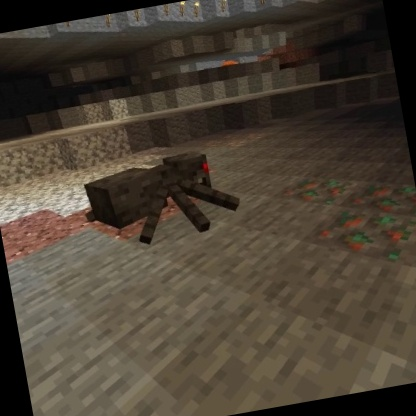spider: (74, 139, 250, 260)
